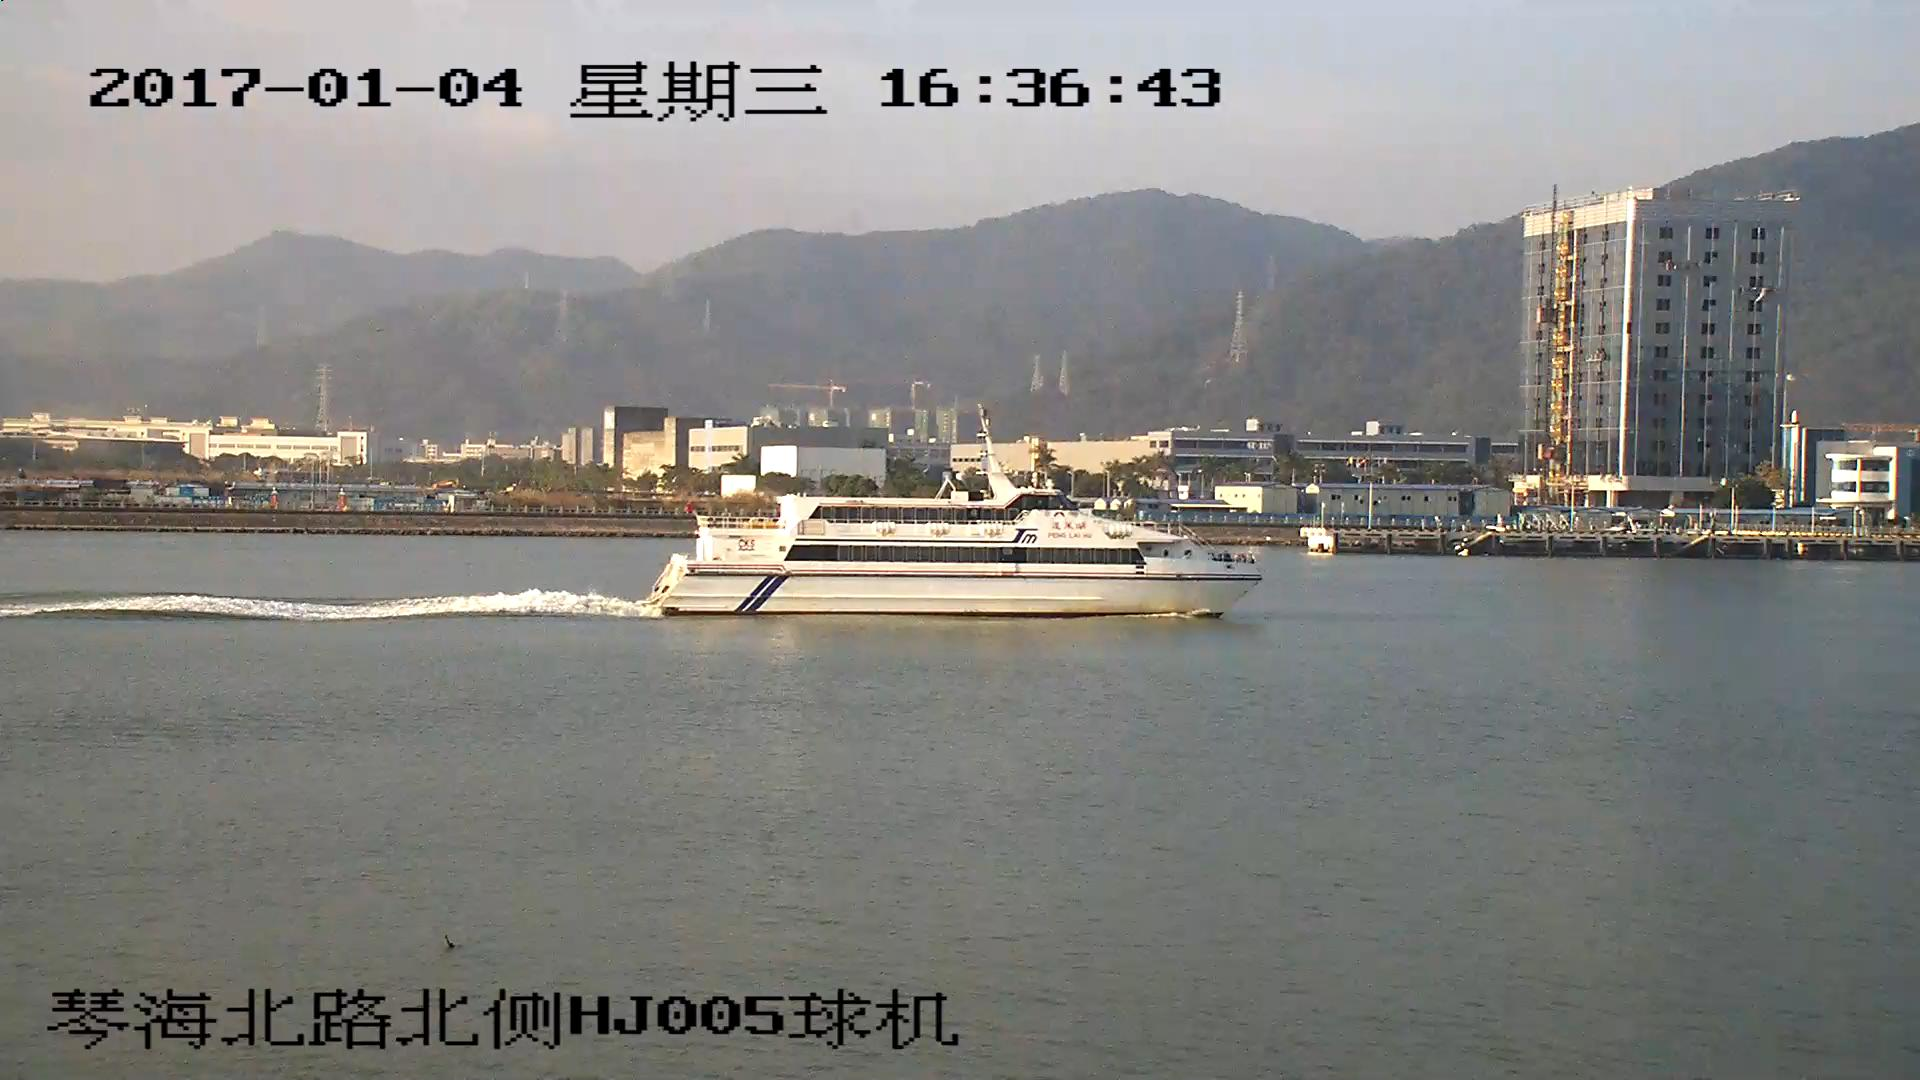passenger ship: (648, 408, 1264, 618)
